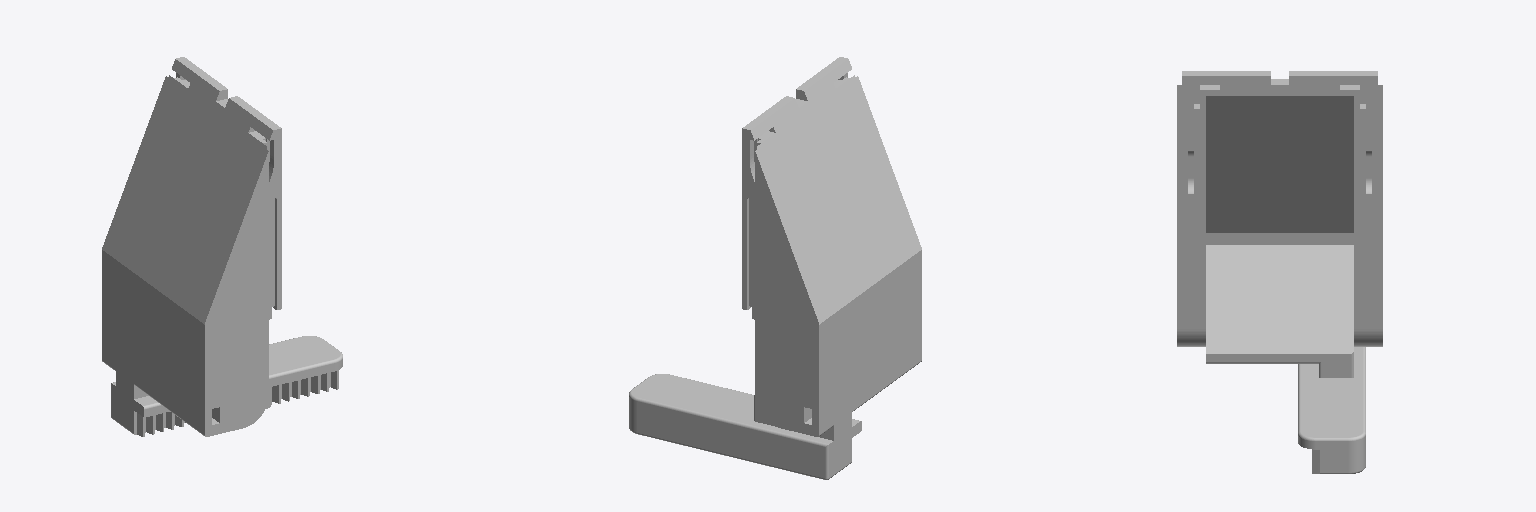
Rendered from Prints_fingerRack.001.obj.
3 renders of one model, left to right at view 1: azimuth 30°, elevation 25°; view 2: azimuth 150°, elevation 25°; view 3: azimuth 270°, elevation 25°, orthographic.
Visible parts, largest first — view 1: fingerRack.001; view 2: fingerRack.001; view 3: fingerRack.001.
Part boxes in pixels (bbox=[...]): fingerRack.001: bbox=[102, 57, 342, 436]; fingerRack.001: bbox=[629, 57, 921, 479]; fingerRack.001: bbox=[1177, 71, 1382, 473].
Bounding box in the file's own units: 0.064 × 0.1006 × 0.0554.